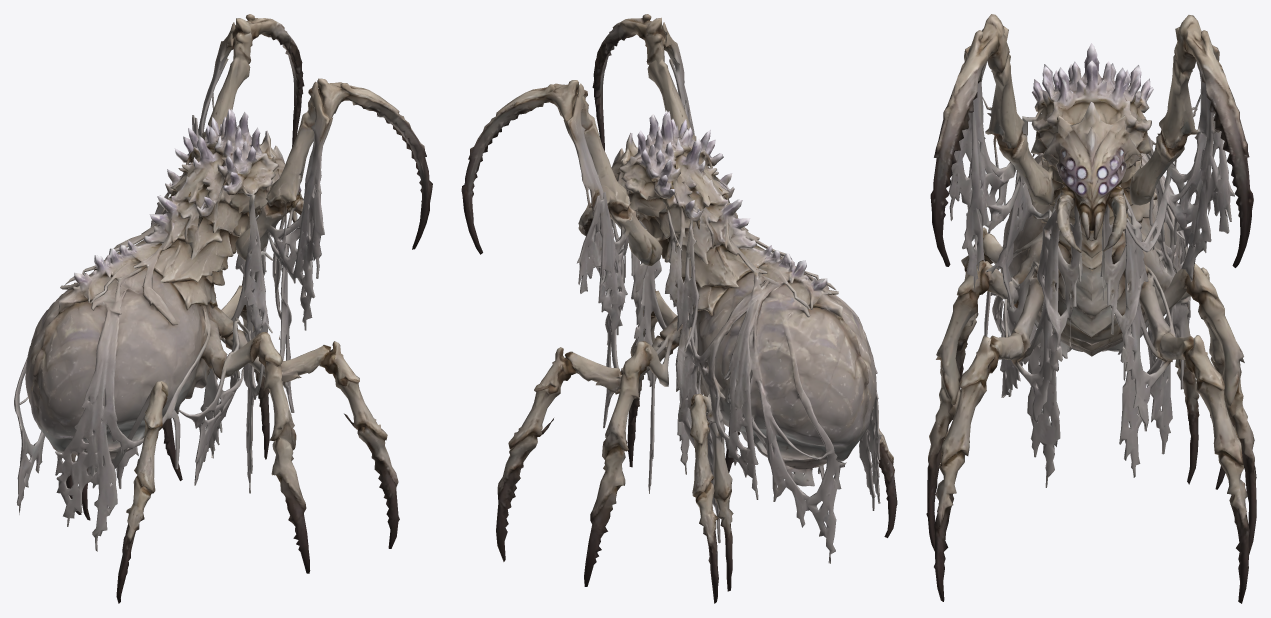
The model's file is Silkmother-tripo.glb.
The picture shows the model from 3 angles, left to right: view 1: azimuth 30°, elevation 25°; view 2: azimuth 150°, elevation 25°; view 3: azimuth 270°, elevation 25°; orthographic projection. The views are drawn at different scales.
Visible parts, largest first — view 1: tripo_node_1e8e3c09-f430-4d29-ab13-c6da04f645f3; view 2: tripo_node_1e8e3c09-f430-4d29-ab13-c6da04f645f3; view 3: tripo_node_1e8e3c09-f430-4d29-ab13-c6da04f645f3.
Boxes of the visible parts, x1,y1,x2,y2 form: tripo_node_1e8e3c09-f430-4d29-ab13-c6da04f645f3: [14, 14, 432, 603]; tripo_node_1e8e3c09-f430-4d29-ab13-c6da04f645f3: [461, 14, 897, 603]; tripo_node_1e8e3c09-f430-4d29-ab13-c6da04f645f3: [926, 14, 1256, 603].
Size of the model in its own units: 0.7394 by 1 by 0.5313.
1 material, 1 textured.
